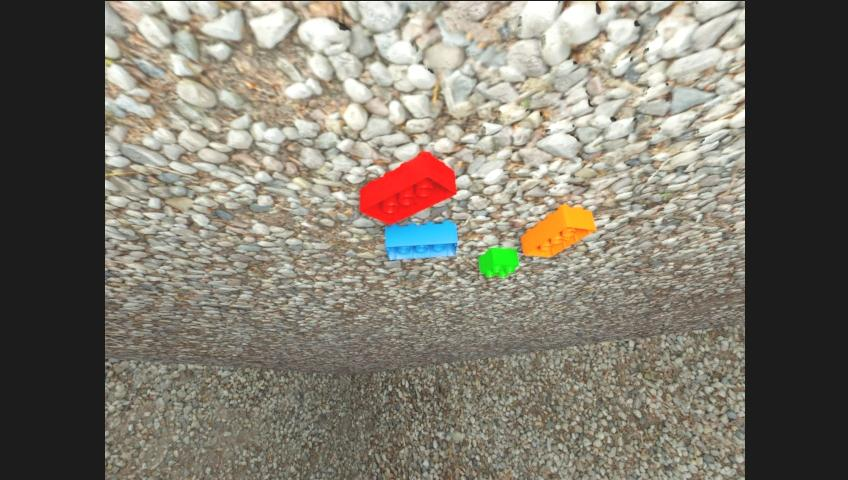2x2_green: (479, 247, 519, 278)
4x2_blue: (386, 221, 457, 260)
4x2_orange: (521, 204, 596, 257)
4x2_red: (360, 151, 456, 225)
